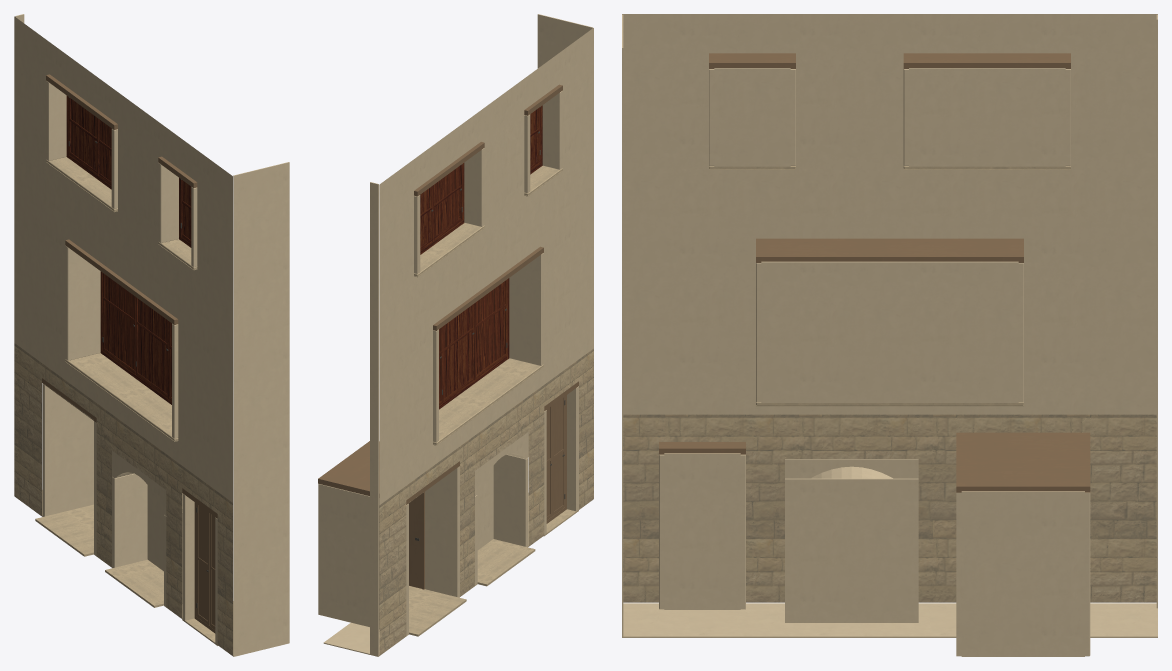
File: fountain-receivers-tea-terrace.glb
3 renders of one model, left to right at view 1: azimuth 30°, elevation 25°; view 2: azimuth 150°, elevation 25°; view 3: azimuth 270°, elevation 25°, orthographic. The views are drawn at different scales.
Parts seen in each view (by area): view 1: bz06_cream_plaster.002-cast, bz06_dressed_sandstone.006-cast, ph_bz04_dark_wood.003-cast, bz06_monolithic_stone_trim.004-cast, bz04_craft_warm_timber.004-cast; view 2: bz06_cream_plaster.002-cast, bz06_dressed_sandstone.006-cast, ph_bz04_dark_wood.003-cast, bz06_monolithic_stone_trim.004-cast, bz04_craft_warm_timber.004-cast; view 3: bz06_cream_plaster.002-cast, bz06_dressed_sandstone.006-cast, bz04_craft_warm_timber.004-cast, bz06_monolithic_stone_trim.004-cast.
Boxes of the visible parts, left/top/right/bottom form: bz06_cream_plaster.002-cast: left=14, top=14, right=289, bottom=656; bz06_dressed_sandstone.006-cast: left=14, top=343, right=232, bottom=655; ph_bz04_dark_wood.003-cast: left=66, top=95, right=191, bottom=404; bz06_monolithic_stone_trim.004-cast: left=35, top=157, right=218, bottom=645; bz04_craft_warm_timber.004-cast: left=42, top=74, right=217, bottom=633; bz06_cream_plaster.002-cast: left=318, top=14, right=593, bottom=656; bz06_dressed_sandstone.006-cast: left=379, top=348, right=593, bottom=655; ph_bz04_dark_wood.003-cast: left=420, top=105, right=542, bottom=409; bz06_monolithic_stone_trim.004-cast: left=409, top=166, right=578, bottom=636; bz04_craft_warm_timber.004-cast: left=318, top=84, right=578, bottom=589; bz06_cream_plaster.002-cast: left=622, top=14, right=1157, bottom=656; bz06_dressed_sandstone.006-cast: left=623, top=414, right=1156, bottom=602; bz04_craft_warm_timber.004-cast: left=659, top=53, right=1090, bottom=492; bz06_monolithic_stone_trim.004-cast: left=659, top=166, right=1070, bottom=609.
Bounding box in the file's own units: 2.12 × 9.72 × 8.
Materials: 6 (6 with a texture image).
